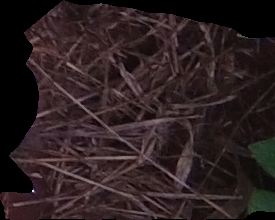soil: (3, 2, 275, 219)
